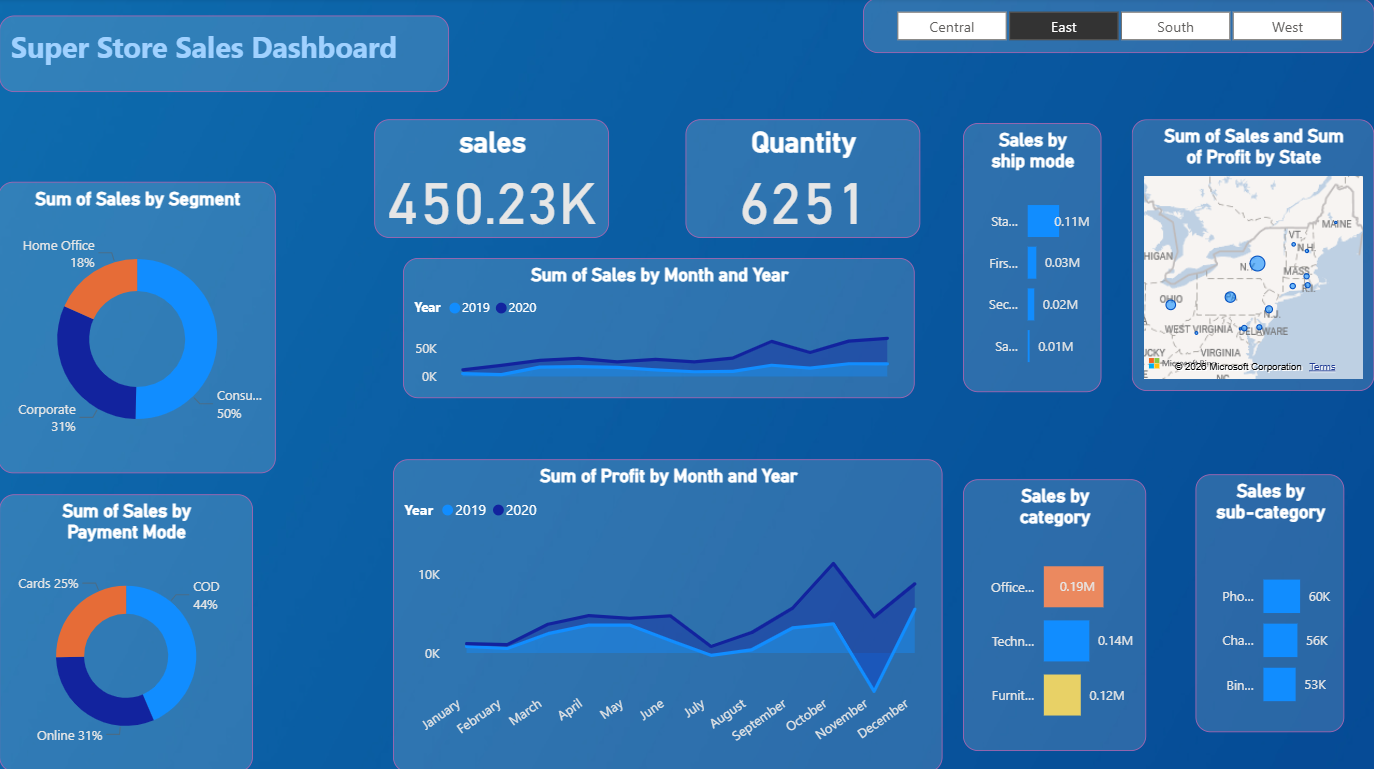

This screenshot's page, from the dashboard's own definition file:
{"tool":"powerbi","page":{"name":"Page 1","canvas":[1280,720],"ordinal":0},"visuals":[{"type":"clusteredBarChart","title":"Sales by category ","fields":{"Category":["SuperStore_Sales_Dataset.Category"],"Y":["Sum(SuperStore_Sales_Dataset.Sales)"]},"box":[897.1,447.1,170,252.9],"z":0},{"type":"clusteredBarChart","title":"Sales by ship mode ","fields":{"Y":["Sum(SuperStore_Sales_Dataset.Sales)"],"Category":["SuperStore_Sales_Dataset.Ship Mode"]},"box":[897.1,115.7,128.6,250],"z":1000},{"type":"clusteredBarChart","title":"Sales by sub-category ","fields":{"Y":["Sum(SuperStore_Sales_Dataset.Sales)"],"Category":["SuperStore_Sales_Dataset.Sub-Category"]},"box":[1114.3,442.9,138.6,240],"z":2000},{"type":"stackedAreaChart","fields":{"Y":["Sum(SuperStore_Sales_Dataset.Sales)"],"Category":["SuperStore_Sales_Dataset.Order Date.Variation.Date Hierarchy.Month","SuperStore_Sales_Dataset.Order Date.Variation.Date Hierarchy.Day"],"Series":["SuperStore_Sales_Dataset.Order Date.Variation.Date Hierarchy.Year"]},"box":[377.1,241.4,475.7,130],"z":3000},{"type":"stackedAreaChart","fields":{"Category":["SuperStore_Sales_Dataset.Order Date.Variation.Date Hierarchy.Month","SuperStore_Sales_Dataset.Order Date.Variation.Date Hierarchy.Day"],"Series":["SuperStore_Sales_Dataset.Order Date.Variation.Date Hierarchy.Year"],"Y":["Sum(SuperStore_Sales_Dataset.Profit)"]},"box":[367.1,428.6,511.4,291.4],"z":4000},{"type":"map","fields":{"Category":["SuperStore_Sales_Dataset.State"],"Size":["Sum(SuperStore_Sales_Dataset.Sales)"]},"box":[1054.3,112.9,225.7,252.9],"z":5000},{"type":"donutChart","fields":{"Category":["SuperStore_Sales_Dataset.Segment"],"Y":["Sum(SuperStore_Sales_Dataset.Sales)"]},"box":[0,171.4,258.6,271.4],"z":6000},{"type":"donutChart","fields":{"Category":["SuperStore_Sales_Dataset.Payment Mode"],"Y":["Sum(SuperStore_Sales_Dataset.Sales)"]},"box":[1.4,461.4,235.7,258.6],"z":7000},{"type":"slicer","fields":{"Values":["SuperStore_Sales_Dataset.Region"]},"box":[804.3,0,475.7,51.4],"z":8000},{"type":"textbox","box":[1.4,15.7,418.6,71.4],"z":9000},{"type":"card","title":"sales","fields":{"Values":["Sum(SuperStore_Sales_Dataset.Sales)"]},"box":[350,112.9,218.6,110],"z":10000},{"type":"card","title":"Quantity","fields":{"Values":["Sum(SuperStore_Sales_Dataset.Quantity)"]},"box":[640,112.9,218.6,110],"z":11000}]}

Visuals, with their boxes in screenshot pixels (x1, y1, x2, y2), scaled from the page's 1280x720 canvas onto the 1374x769 screenshot:
"Sales by category " clusteredBarChart: {"x1": 963, "y1": 478, "x2": 1145, "y2": 748}
"Sales by ship mode " clusteredBarChart: {"x1": 963, "y1": 124, "x2": 1101, "y2": 391}
"Sales by sub-category " clusteredBarChart: {"x1": 1196, "y1": 473, "x2": 1345, "y2": 729}
stackedAreaChart - Sum(SuperStore_Sales_Dataset.Sales) x SuperStore_Sales_Dataset.Order Date.Variation.Date Hierarchy.Month: {"x1": 405, "y1": 258, "x2": 915, "y2": 397}
stackedAreaChart - SuperStore_Sales_Dataset.Order Date.Variation.Date Hierarchy.Month x SuperStore_Sales_Dataset.Order Date.Variation.Date Hierarchy.Day: {"x1": 394, "y1": 458, "x2": 943, "y2": 768}
map - SuperStore_Sales_Dataset.State x Sum(SuperStore_Sales_Dataset.Sales): {"x1": 1132, "y1": 121, "x2": 1373, "y2": 391}
donutChart - SuperStore_Sales_Dataset.Segment x Sum(SuperStore_Sales_Dataset.Sales): {"x1": 0, "y1": 183, "x2": 278, "y2": 473}
donutChart - SuperStore_Sales_Dataset.Payment Mode x Sum(SuperStore_Sales_Dataset.Sales): {"x1": 2, "y1": 493, "x2": 255, "y2": 768}
slicer - SuperStore_Sales_Dataset.Region: {"x1": 863, "y1": 0, "x2": 1373, "y2": 55}
textbox: {"x1": 2, "y1": 17, "x2": 451, "y2": 93}
"sales" card: {"x1": 376, "y1": 121, "x2": 610, "y2": 238}
"Quantity" card: {"x1": 687, "y1": 121, "x2": 922, "y2": 238}
